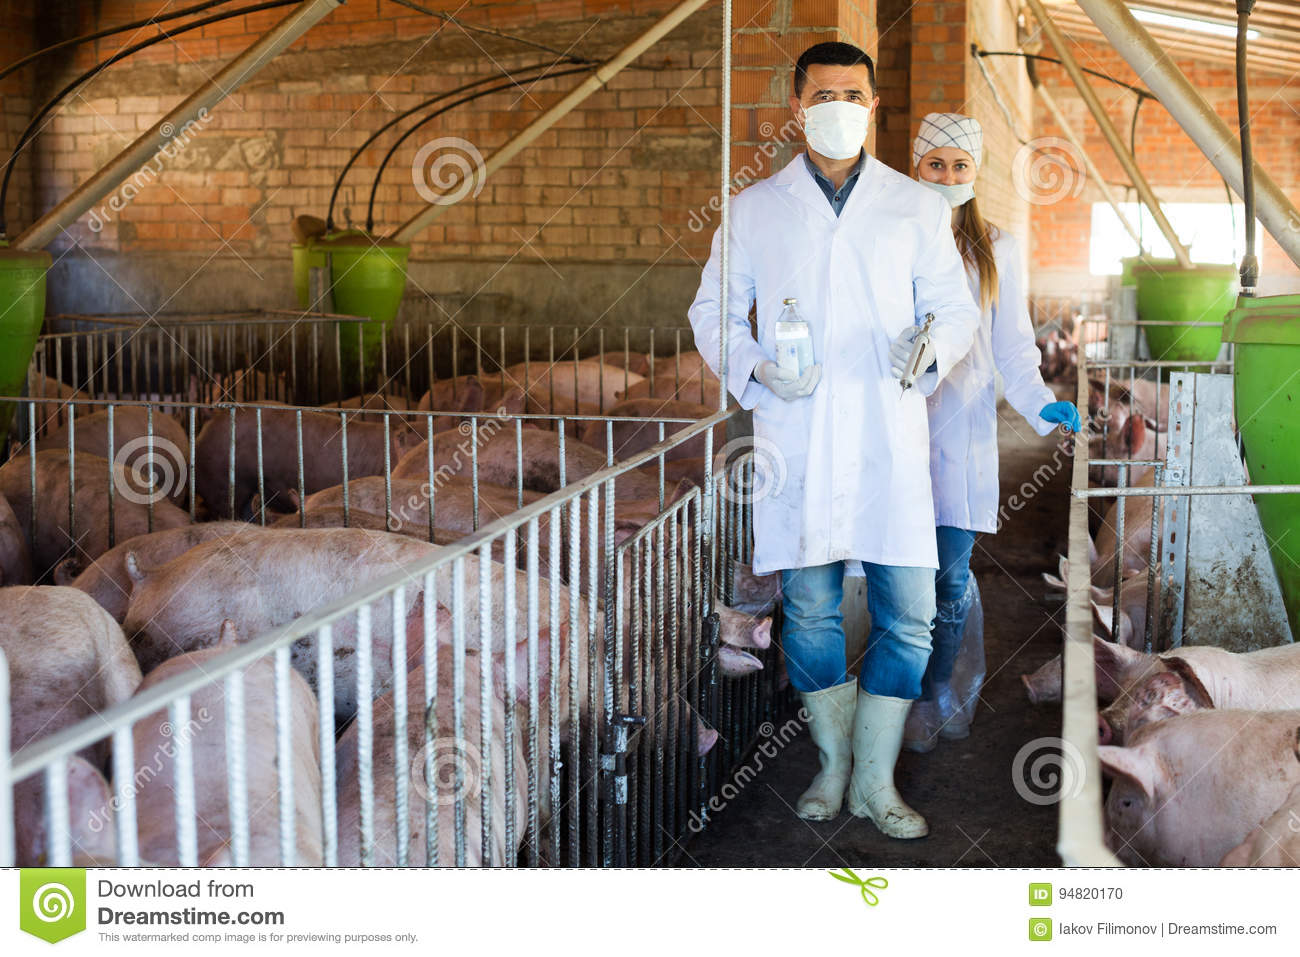mask: (804, 95, 876, 167), (922, 177, 976, 207)
